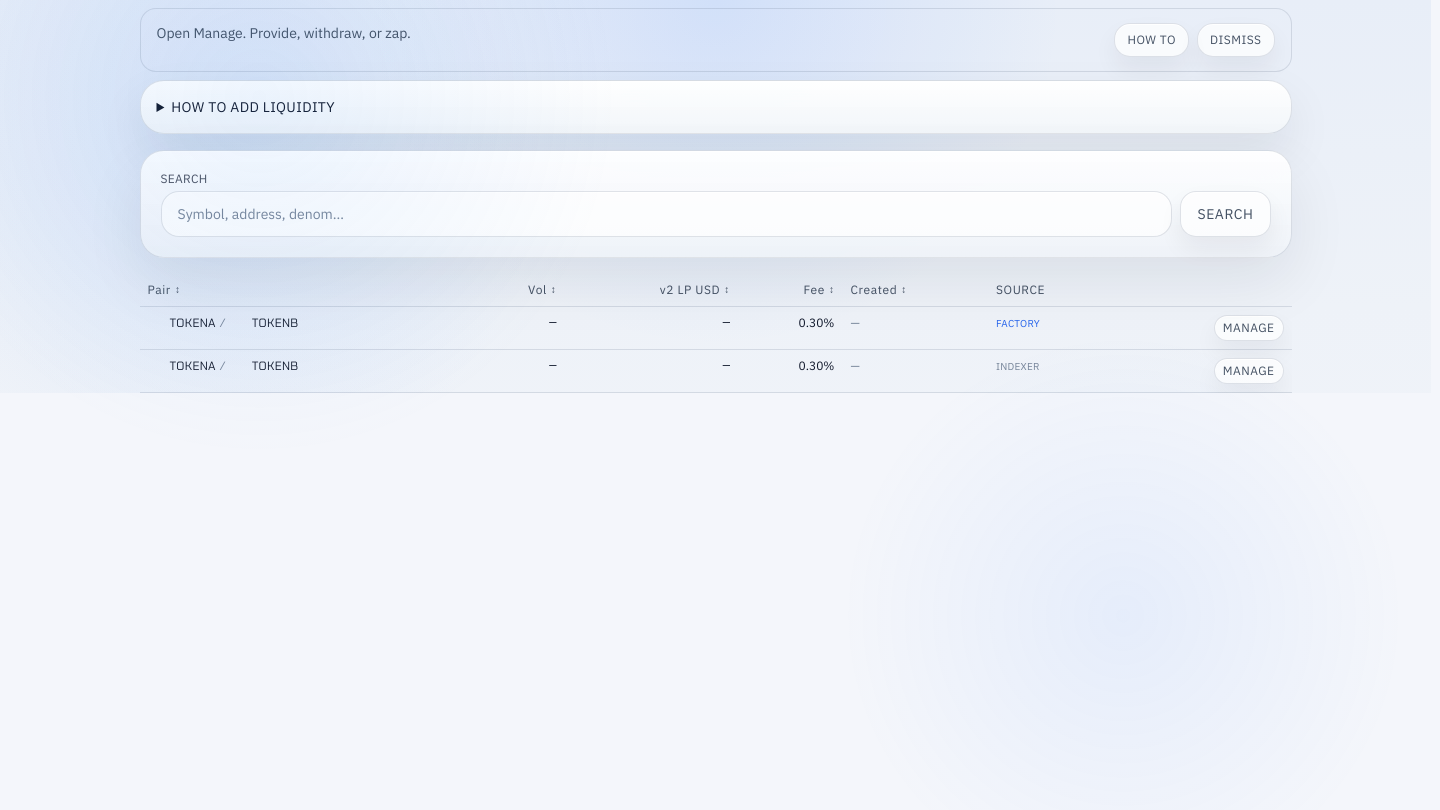
Test: PoolPage › pair Manage IA (GitLab #660) › M7: indexer-only row omits zap tabs
Click the button with test id "pool-row-manage" in the row of "Indexer".
click(1249, 371)  # box [1214,358,1284,384]
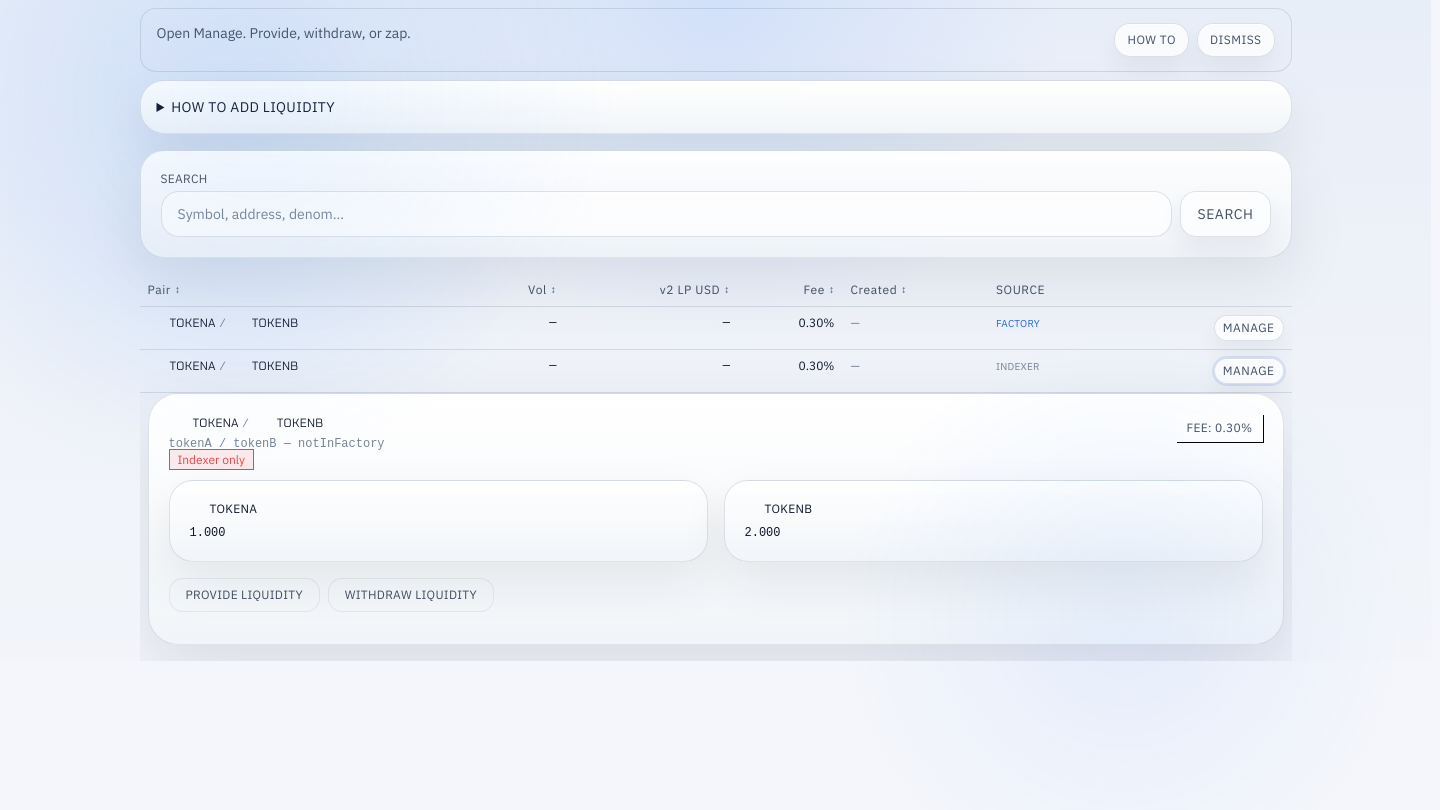
Check: the button with test id "pool-manage-tab-provide" is shown, box [168,578,320,612]
